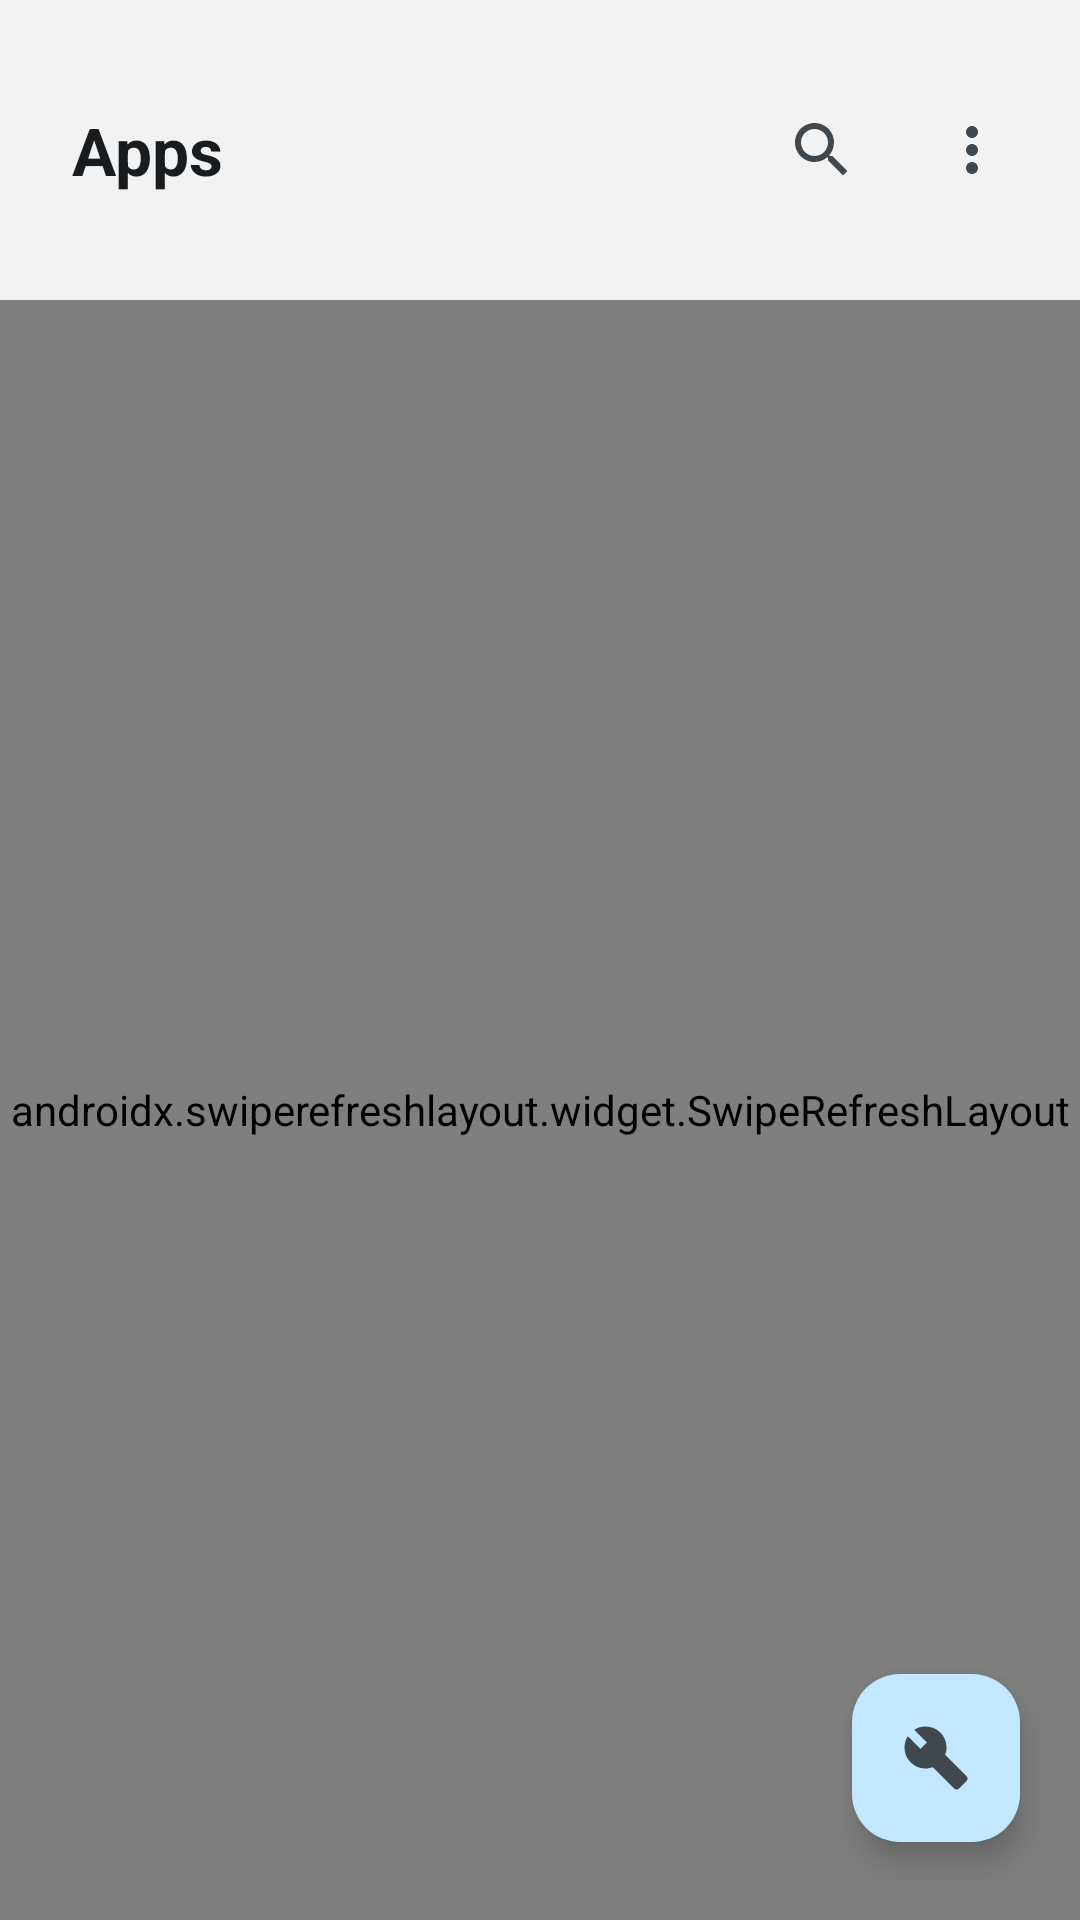

Locate icon controls on the screen. Image size 1080w x 1920h, boxes as box(x1, y1, x2, y2).
More Options: box(966, 126, 978, 174)
Search…: box(795, 123, 847, 175)
